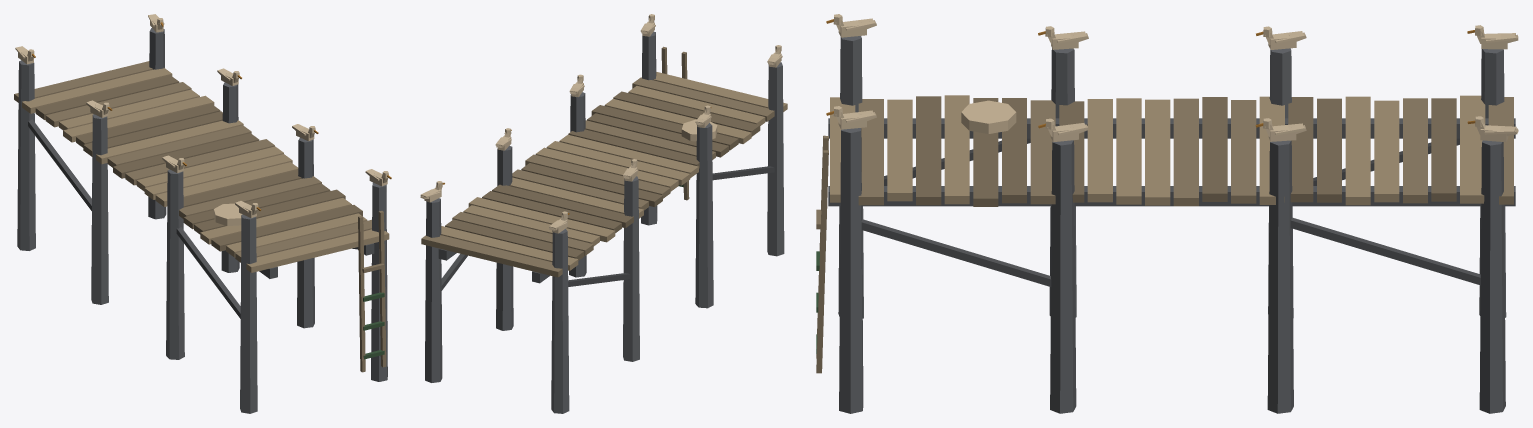
Rendered from staithe.glb.
3 renders of one model, left to right at view 1: azimuth 30°, elevation 25°; view 2: azimuth 150°, elevation 25°; view 3: azimuth 270°, elevation 25°, orthographic. The views are drawn at different scales.
Visible parts, largest first — view 1: silverfog_d50, driftwood_d20, driftwood_d38, driftwood_d30, driftwood_l15, silverfog_d60, driftwood_l10, moss_d35; view 2: silverfog_d50, driftwood_d20, driftwood_d38, driftwood_d30, driftwood_l15, silverfog_d60, driftwood_l10; view 3: silverfog_d50, driftwood_d20, driftwood_d38, driftwood_d30, silverfog_d55, driftwood_l15, silverfog_d60, driftwood_l10.
Boxes of the visible parts, box(x1,y1,x2,y2) form: silverfog_d50: box(17, 28, 387, 413); driftwood_d20: box(22, 68, 389, 272); driftwood_d38: box(35, 75, 362, 251); driftwood_d30: box(14, 61, 386, 372); driftwood_l15: box(15, 14, 388, 218); silverfog_d60: box(28, 119, 356, 318); driftwood_l10: box(213, 203, 242, 225); moss_d35: box(363, 292, 384, 359); silverfog_d50: box(425, 31, 784, 413); driftwood_d20: box(441, 72, 787, 270); driftwood_d38: box(445, 91, 760, 260); driftwood_d30: box(421, 46, 774, 277); driftwood_l15: box(420, 14, 782, 233); silverfog_d60: box(441, 166, 774, 290); driftwood_l10: box(681, 119, 717, 141); silverfog_d50: box(838, 36, 1506, 413); driftwood_d20: box(830, 95, 1485, 205); driftwood_d38: box(916, 96, 1456, 206); driftwood_d30: box(816, 97, 1513, 373); silverfog_d55: box(828, 118, 1515, 206); driftwood_l15: box(833, 14, 1518, 142); silverfog_d60: box(861, 138, 1480, 286); driftwood_l10: box(961, 100, 1016, 133).
Bounding box in the file's own units: 2.14 × 2.91 × 6.13.
